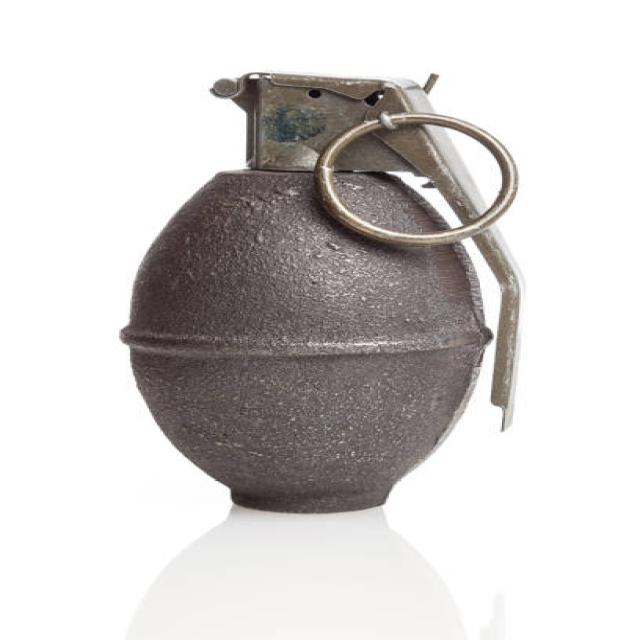grenade: (101, 62, 533, 525)
